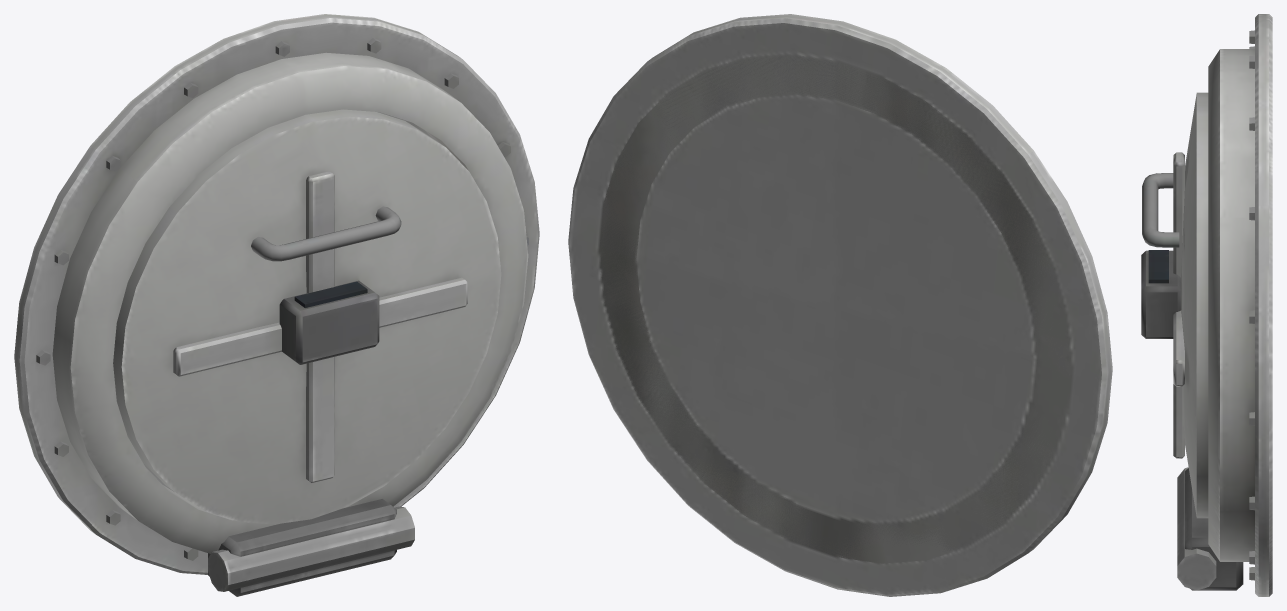
File: roofHatch.glb
3 views of the same model, side by side, from view 1: azimuth 30°, elevation 25°; view 2: azimuth 150°, elevation 25°; view 3: azimuth 270°, elevation 25° (orthographic). The views are drawn at different scales.
Parts seen in each view (by area): view 1: roofHatch; view 2: roofHatch; view 3: roofHatch.
Part boxes in pixels (box(x1,y1,x2,y2)): roofHatch: box(14, 14, 539, 596); roofHatch: box(568, 14, 1112, 596); roofHatch: box(1141, 14, 1272, 596).
Bounding box in the file's own units: 1 × 1 × 0.225.
1 material, 1 textured.
